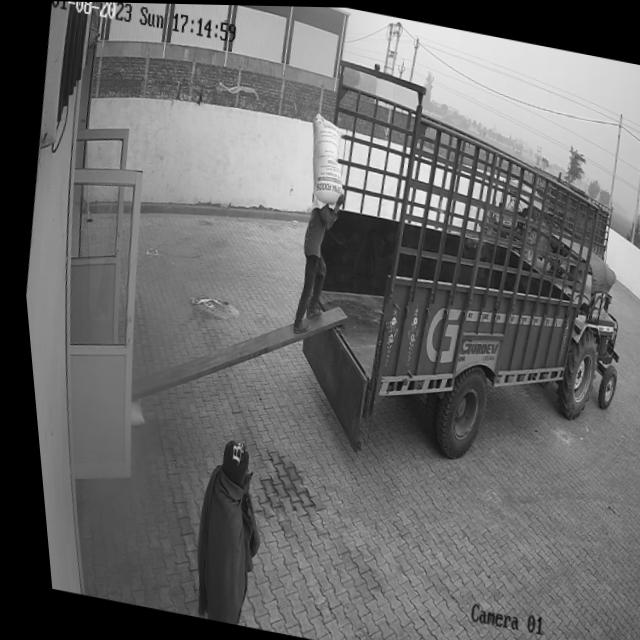sack: (295, 109, 354, 214)
